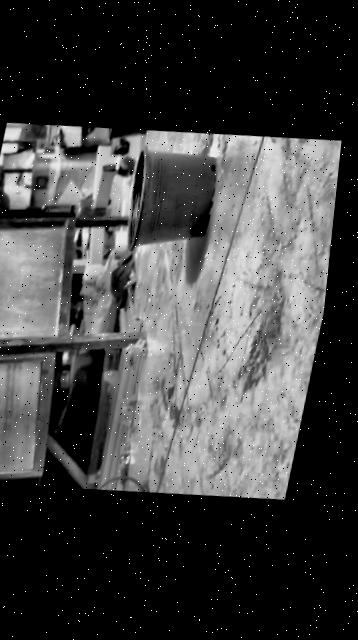pot: (117, 141, 223, 257)
